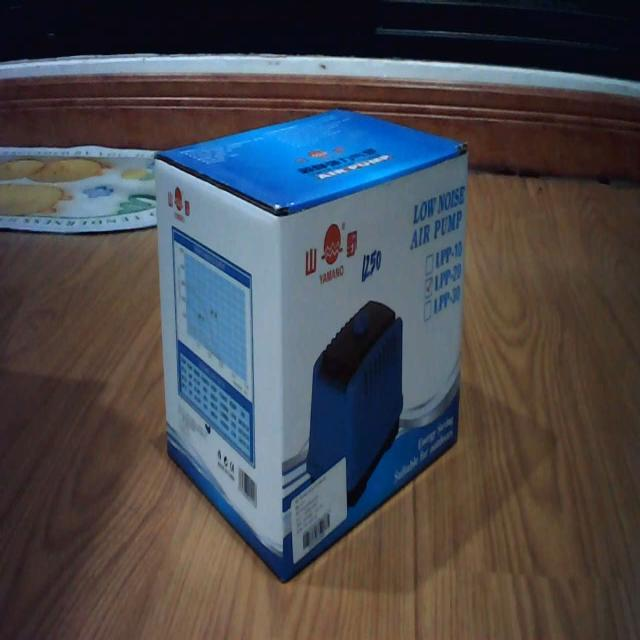YAMANO_LPP_20: (144, 86, 482, 592)
